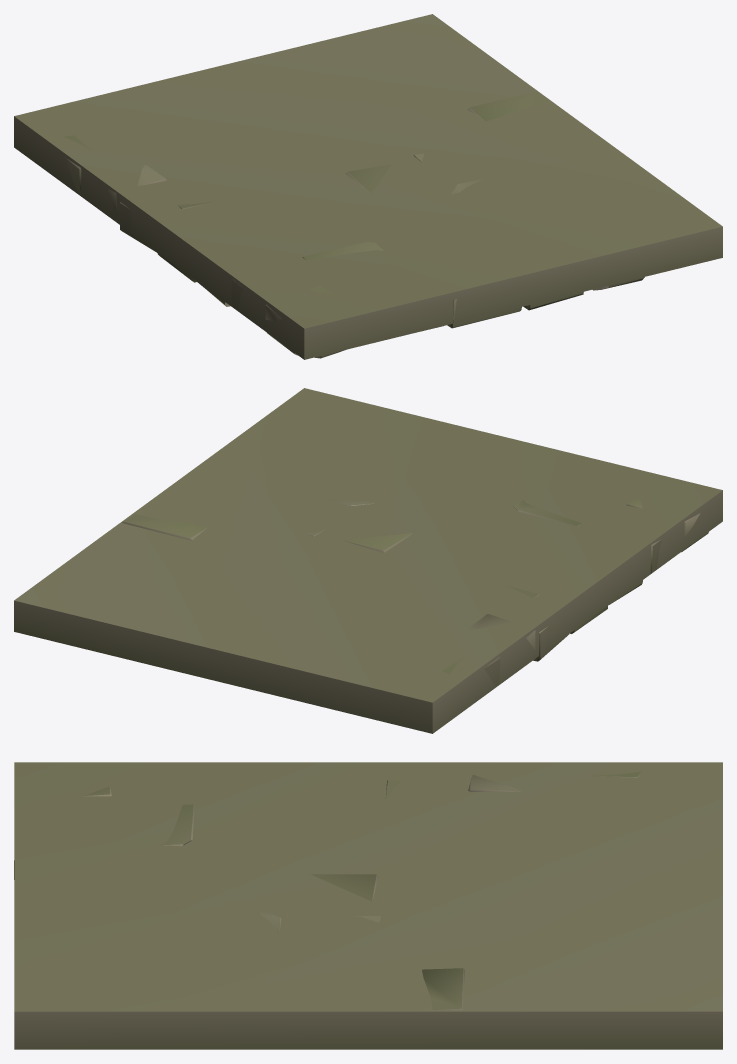
File: street_paving_broken.glb
The picture shows the model from 3 angles, top to bottom: view 1: azimuth 30°, elevation 25°; view 2: azimuth 150°, elevation 25°; view 3: azimuth 270°, elevation 25°; orthographic projection. The views are drawn at different scales.
Visible parts, largest first — view 1: street_paving_broken_far, street_paving_broken; view 2: street_paving_broken_far, street_paving_broken; view 3: street_paving_broken_far, street_paving_broken.
Boxes of the visible parts, x1=… form: street_paving_broken_far: x1=14, y1=14, x2=722, y2=359; street_paving_broken: x1=63, y1=92, x2=644, y2=358; street_paving_broken_far: x1=14, y1=388, x2=722, y2=733; street_paving_broken: x1=122, y1=497, x2=708, y2=685; street_paving_broken_far: x1=14, y1=762, x2=722, y2=1049; street_paving_broken: x1=14, y1=771, x2=641, y2=1010.
Size of the model in its own units: 13.36 by 1.29 by 16.01.
